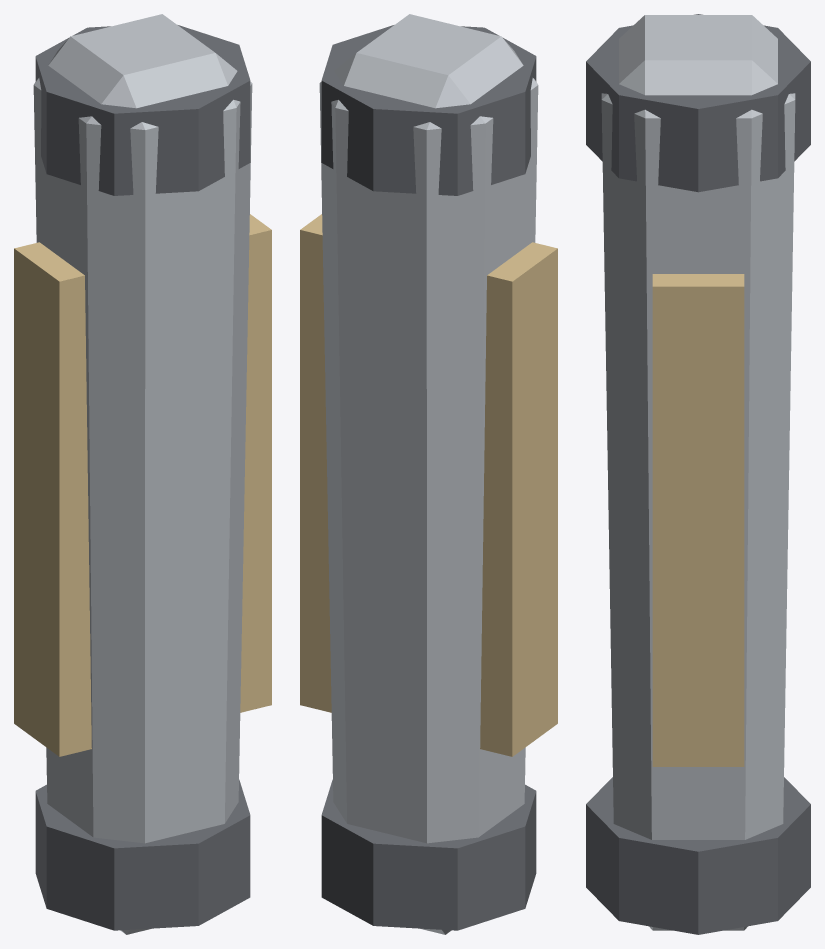
Rendered from bastion.arm_beam.glb.
3 renders of one model, left to right at view 1: azimuth 30°, elevation 25°; view 2: azimuth 150°, elevation 25°; view 3: azimuth 270°, elevation 25°, orthographic.
Bounding box in the file's own units: 0.54 × 2.1 × 0.49.
